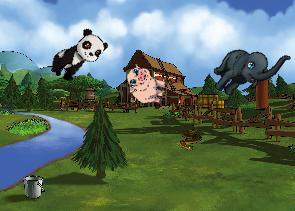elephant: (205, 25, 291, 114)
panda: (45, 24, 110, 88)
pig: (122, 62, 171, 109)
